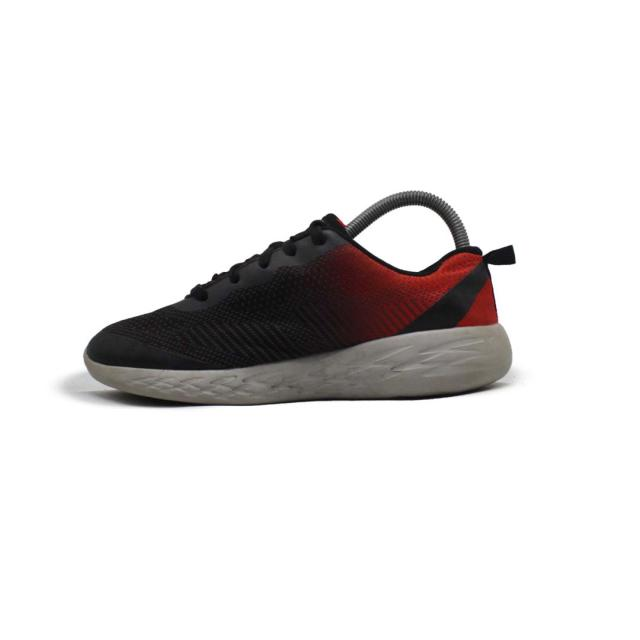heel: (484, 234, 520, 326)
midsole: (76, 326, 524, 406)
uppersole: (69, 201, 482, 369)
